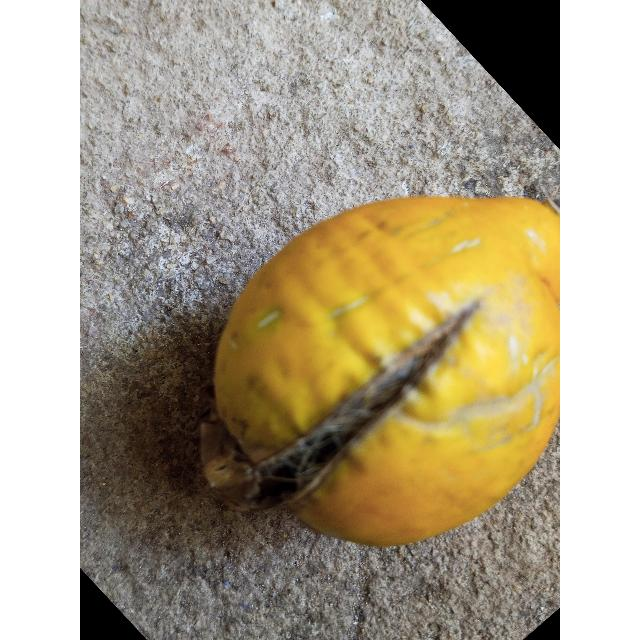damaged: (204, 196, 560, 550)
